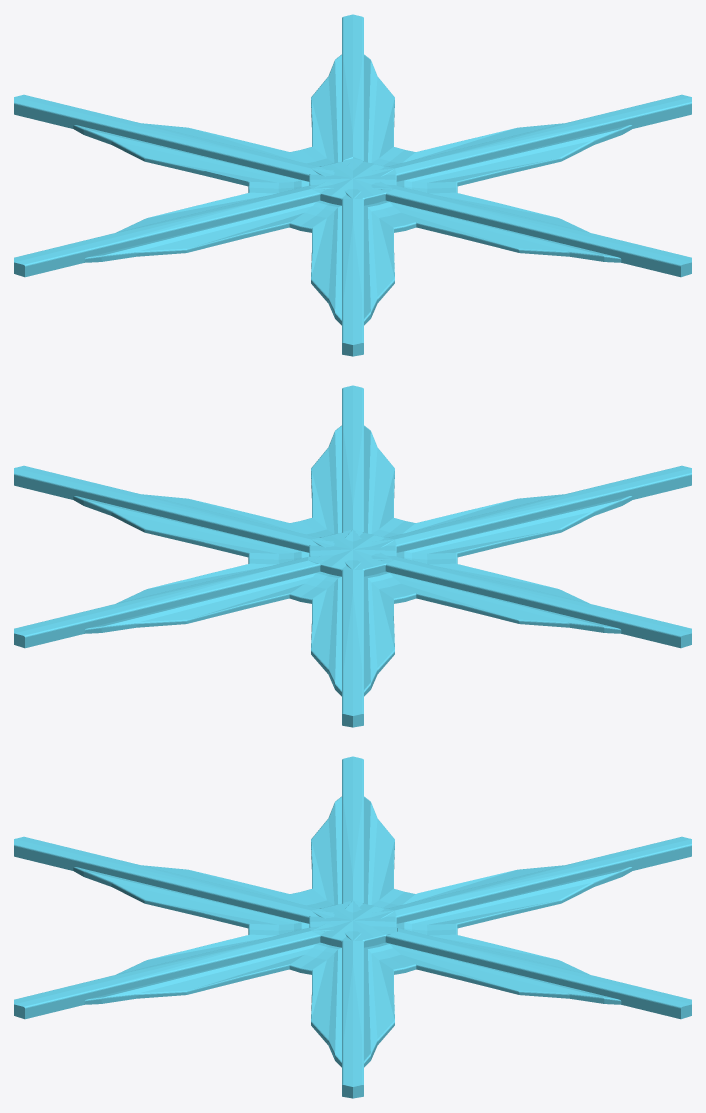
File: baza-1-15.obj
3 views of the same model, one above another, from view 1: azimuth 30°, elevation 25°; view 2: azimuth 150°, elevation 25°; view 3: azimuth 270°, elevation 25° (orthographic).
Parts seen in each view (by area): view 1: Plane; view 2: Plane; view 3: Plane.
Boxes of the visible parts, left/top/right/bottom form: Plane: left=14, top=14, right=691, bottom=356; Plane: left=14, top=385, right=691, bottom=727; Plane: left=14, top=756, right=691, bottom=1098.
Size of the model in its own units: 0.5935 by 0.0119 by 0.5141.
